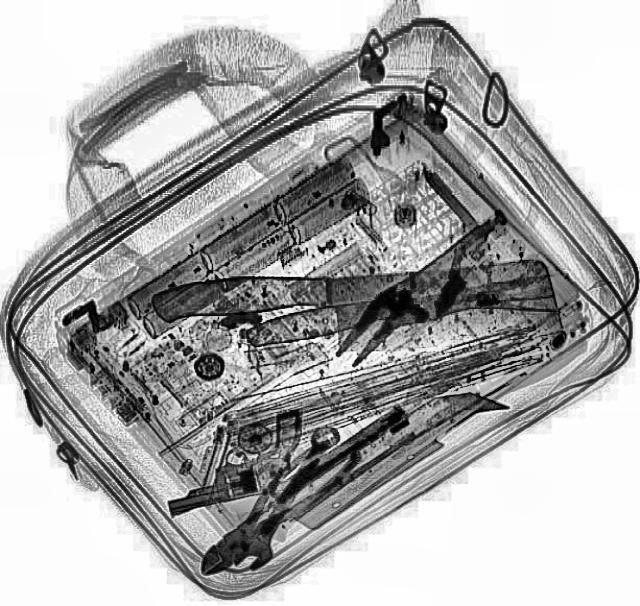Gun: (146, 406, 324, 518)
Knife: (150, 259, 562, 364), (244, 261, 558, 351)
Pliers: (178, 422, 372, 590)
Wrench: (222, 418, 352, 578)
